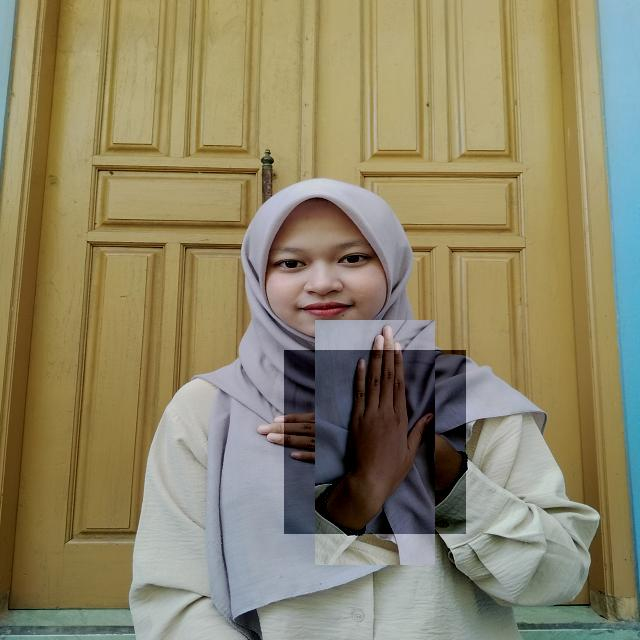tolong: (284, 350, 466, 534)
